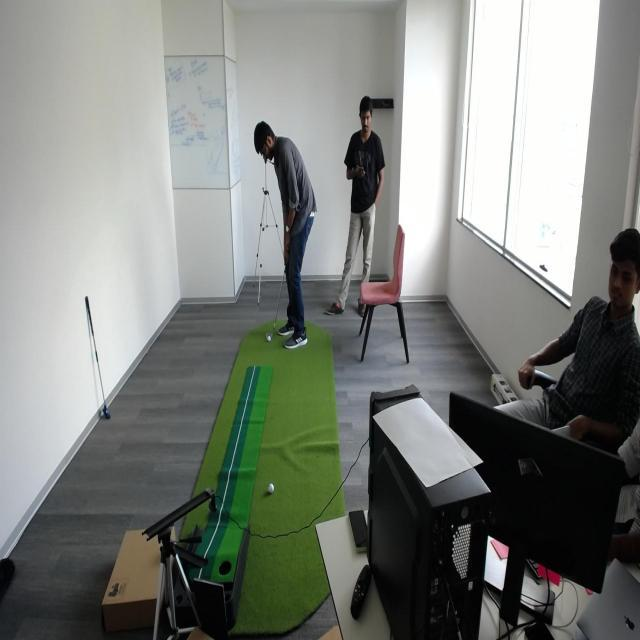ClubHead: (94, 398, 112, 426), (265, 326, 275, 342)
GolfBall: (268, 482, 276, 496), (268, 336, 272, 345)
